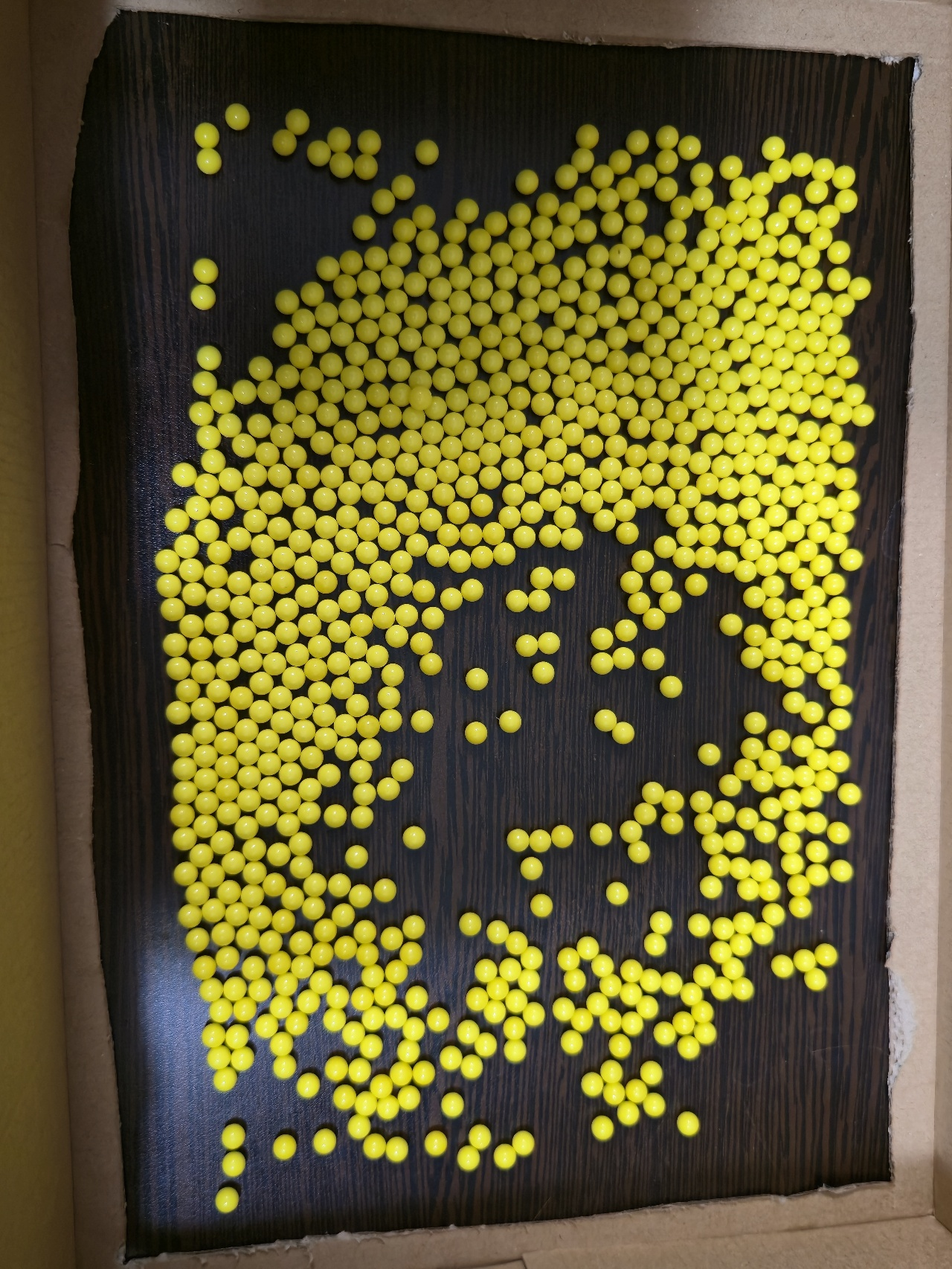yellow_bead: (237, 439, 251, 452), (180, 540, 193, 553), (224, 473, 237, 486), (390, 1010, 402, 1024), (582, 942, 594, 955), (492, 926, 504, 939), (843, 788, 856, 800), (161, 555, 173, 568), (200, 524, 213, 536), (170, 514, 182, 527), (248, 468, 261, 480), (207, 455, 219, 468), (223, 419, 236, 431), (447, 1098, 458, 1112), (347, 1027, 358, 1041), (480, 1039, 492, 1051), (693, 919, 705, 931), (611, 887, 623, 899), (705, 881, 717, 893), (408, 832, 420, 844), (834, 713, 846, 725), (296, 701, 308, 713), (321, 521, 333, 533), (200, 479, 212, 491), (518, 1137, 529, 1150), (558, 1003, 569, 1016), (411, 992, 422, 1005), (274, 691, 287, 702), (253, 420, 266, 431), (238, 387, 251, 398), (204, 155, 215, 168), (184, 566, 198, 576), (587, 1078, 598, 1090), (231, 1030, 242, 1042), (315, 978, 327, 989), (650, 939, 661, 951), (718, 922, 729, 934), (656, 916, 667, 928), (760, 826, 771, 838), (355, 765, 367, 776), (401, 609, 413, 620), (846, 554, 858, 565), (808, 486, 820, 497), (354, 466, 366, 477), (753, 390, 764, 402), (855, 283, 866, 295), (199, 265, 210, 277), (318, 492, 331, 502), (240, 492, 253, 502), (162, 579, 176, 588), (320, 1135, 331, 1146), (683, 1119, 694, 1130), (466, 1062, 477, 1073), (205, 984, 216, 995), (837, 865, 848, 876), (526, 863, 537, 874), (240, 821, 251, 832), (750, 717, 761, 728), (600, 715, 611, 726), (472, 673, 483, 684), (832, 538, 843, 549), (744, 502, 755, 513), (745, 480, 756, 491), (338, 449, 349, 460), (834, 274, 845, 285), (229, 1157, 239, 1169), (353, 1124, 365, 1134), (354, 1066, 366, 1076), (409, 1023, 419, 1035), (329, 1017, 341, 1027), (367, 1014, 379, 1024), (528, 952, 538, 964), (811, 846, 823, 856), (625, 826, 637, 836), (396, 764, 408, 774), (416, 715, 428, 725), (350, 642, 362, 652), (300, 561, 312, 571), (294, 535, 306, 545), (341, 534, 353, 544), (249, 515, 261, 525), (344, 486, 356, 496), (367, 486, 379, 496), (506, 463, 518, 473), (718, 460, 728, 472), (752, 438, 762, 450), (842, 196, 852, 208), (530, 1008, 539, 1021), (506, 963, 515, 976), (276, 716, 289, 725), (244, 655, 257, 664), (322, 605, 335, 614), (298, 511, 311, 520), (202, 431, 215, 440), (660, 1029, 670, 1040), (275, 1004, 286, 1014), (512, 995, 522, 1006), (524, 977, 535, 987), (247, 962, 257, 973), (779, 960, 789, 971), (596, 829, 607, 839), (696, 796, 707, 806), (648, 787, 659, 797), (242, 748, 253, 758), (826, 673, 836, 684), (597, 658, 608, 668), (649, 653, 659, 664), (835, 602, 846, 612), (771, 536, 781, 547), (754, 523, 765, 533), (701, 507, 711, 518), (527, 477, 538, 487), (586, 473, 597, 483), (420, 473, 431, 483), (780, 470, 790, 481), (274, 469, 285, 479), (821, 468, 831, 479), (800, 466, 810, 477), (378, 463, 389, 473), (740, 457, 750, 468), (485, 448, 496, 458), (446, 442, 457, 452), (277, 429, 288, 439), (428, 426, 438, 437), (742, 418, 752, 429), (859, 410, 869, 421), (204, 352, 214, 363), (221, 1194, 233, 1203), (227, 1134, 239, 1143), (509, 1048, 521, 1057), (276, 1041, 288, 1050), (355, 890, 367, 899), (636, 846, 645, 858), (512, 835, 524, 844), (358, 788, 370, 797), (323, 769, 335, 778), (341, 743, 353, 752), (254, 705, 266, 714), (383, 692, 395, 701), (387, 669, 399, 678), (333, 657, 345, 666), (314, 640, 326, 649), (219, 639, 231, 648), (259, 636, 271, 645), (233, 533, 245, 542), (425, 513, 437, 522), (619, 504, 631, 513), (843, 495, 855, 504), (605, 463, 617, 472), (550, 443, 562, 452), (731, 437, 740, 449), (747, 369, 756, 381), (814, 186, 823, 198), (478, 1131, 486, 1144), (669, 977, 677, 990), (318, 710, 331, 718), (255, 677, 268, 685), (332, 626, 345, 634), (280, 603, 293, 611), (235, 601, 248, 609), (300, 590, 313, 598), (316, 544, 329, 552), (383, 533, 396, 541), (273, 522, 286, 530), (237, 1056, 247, 1066), (302, 997, 312, 1007), (288, 672, 298, 682), (803, 508, 813, 518), (546, 494, 556, 504), (765, 489, 775, 499), (762, 459, 772, 469), (696, 457, 706, 467), (468, 433, 478, 443), (490, 425, 500, 435), (493, 401, 503, 411), (729, 322, 739, 332), (774, 289, 784, 299), (393, 1146, 402, 1157), (212, 1055, 223, 1064), (490, 1009, 501, 1018), (483, 966, 492, 977), (599, 960, 608, 971), (408, 921, 419, 930), (741, 917, 750, 928), (309, 878, 320, 887), (227, 856, 238, 865), (731, 836, 740, 847), (216, 836, 227, 845), (814, 818, 823, 829), (262, 734, 273, 743), (822, 731, 831, 742), (618, 727, 629, 736), (505, 716, 516, 725), (832, 651, 841, 662), (372, 650, 383, 659), (544, 637, 555, 646), (597, 633, 608, 642), (567, 533, 578, 542), (791, 525, 800, 536), (724, 509, 733, 520), (825, 502, 834, 513), (789, 491, 798, 502), (686, 491, 695, 502), (509, 489, 520, 498), (289, 489, 300, 498), (391, 483, 402, 492), (725, 483, 734, 494), (327, 470, 338, 479), (530, 454, 541, 463), (425, 450, 436, 459), (506, 440, 517, 449), (408, 435, 417, 446), (805, 426, 814, 437), (562, 403, 573, 412), (735, 397, 744, 408), (776, 394, 785, 405), (840, 299, 849, 310), (836, 246, 845, 257), (463, 1157, 475, 1165), (257, 984, 265, 996), (229, 983, 237, 995), (334, 879, 346, 887), (329, 810, 341, 818), (303, 808, 315, 816), (240, 724, 252, 732), (172, 707, 184, 715), (352, 699, 364, 707), (268, 658, 280, 666), (391, 630, 403, 638), (210, 617, 222, 625), (167, 603, 179, 611), (375, 566, 387, 574), (432, 550, 444, 558), (361, 547, 373, 555), (257, 539, 269, 547), (264, 496, 276, 504), (411, 495, 423, 503), (178, 469, 190, 477), (401, 458, 413, 466), (262, 448, 274, 456), (787, 267, 795, 279), (257, 611, 270, 618), (187, 588, 200, 595), (255, 564, 268, 571), (277, 552, 290, 559), (341, 511, 354, 518), (279, 1064, 288, 1074), (448, 1054, 457, 1064), (368, 1043, 377, 1053), (214, 1006, 224, 1015), (759, 930, 769, 939), (184, 910, 194, 919), (771, 910, 780, 920), (192, 887, 202, 896), (787, 838, 797, 847), (536, 835, 546, 844), (791, 697, 800, 707), (619, 652, 629, 661), (818, 636, 827, 646), (800, 625, 809, 635), (837, 624, 846, 634), (770, 581, 779, 591), (657, 576, 667, 585), (742, 565, 751, 575), (500, 547, 510, 556), (607, 486, 617, 495), (627, 472, 637, 481), (816, 447, 825, 457), (793, 446, 803, 455), (361, 441, 370, 451), (613, 440, 622, 450), (385, 440, 394, 450), (317, 437, 327, 446), (569, 428, 579, 437), (451, 418, 460, 428), (700, 413, 709, 423), (649, 403, 658, 413), (539, 398, 548, 408), (691, 392, 700, 402), (718, 356, 727, 366), (407, 334, 416, 344), (771, 332, 780, 342), (750, 327, 759, 337), (828, 319, 837, 329), (477, 308, 486, 318), (741, 303, 750, 313), (694, 254, 704, 263), (805, 251, 814, 261), (704, 234, 714, 243), (698, 169, 707, 179), (500, 1151, 508, 1162), (630, 1018, 638, 1029), (266, 937, 277, 945), (539, 899, 547, 910), (351, 851, 362, 859), (295, 838, 306, 846), (261, 809, 272, 817), (722, 806, 730, 817), (768, 803, 776, 814), (304, 783, 315, 791), (243, 772, 254, 780), (263, 759, 274, 767), (306, 751, 317, 759), (321, 733, 332, 741), (298, 726, 309, 734), (339, 719, 350, 727), (385, 715, 396, 723), (197, 703, 208, 711), (212, 684, 223, 692), (538, 667, 549, 675), (522, 640, 533, 648), (726, 619, 737, 627), (428, 612, 439, 620), (378, 611, 389, 619), (512, 595, 523, 603), (446, 593, 457, 601), (353, 574, 364, 582), (820, 560, 828, 571), (786, 557, 794, 568), (337, 557, 348, 565), (455, 555, 466, 563), (519, 531, 530, 539), (379, 507, 390, 515), (216, 501, 227, 509), (462, 481, 473, 489), (289, 450, 300, 458), (710, 438, 718, 449), (550, 420, 558, 431), (852, 389, 860, 400), (768, 372, 776, 383), (785, 313, 793, 324), (819, 298, 827, 309), (649, 974, 656, 986), (242, 795, 254, 802), (263, 783, 275, 790), (284, 769, 296, 776), (178, 764, 190, 771), (364, 745, 376, 752), (283, 745, 295, 752), (198, 727, 210, 734), (222, 664, 234, 671), (291, 649, 303, 656), (280, 627, 292, 634), (238, 625, 250, 632), (303, 619, 315, 626), (255, 588, 267, 595), (396, 579, 408, 586), (411, 539, 423, 546), (599, 515, 611, 522), (405, 1096, 414, 1105), (628, 991, 637, 1000), (359, 925, 368, 934), (382, 884, 391, 893), (790, 859, 799, 868), (792, 817, 801, 826), (727, 780, 736, 789), (801, 771, 810, 780), (706, 749, 715, 758), (791, 672, 800, 681), (724, 556, 733, 565), (684, 530, 693, 539), (561, 511, 570, 520), (649, 469, 658, 478), (606, 419, 615, 428), (585, 411, 594, 420), (324, 408, 333, 417), (838, 408, 847, 417), (624, 402, 633, 411), (352, 396, 361, 405), (614, 332, 623, 341), (199, 290, 208, 299), (735, 274, 744, 283), (595, 1000, 603, 1010), (208, 905, 218, 913), (815, 870, 823, 880), (181, 867, 191, 875), (195, 849, 205, 857), (273, 848, 283, 856), (710, 839, 718, 849), (745, 813, 753, 823), (284, 795, 294, 803), (472, 727, 482, 735), (810, 707, 818, 717), (337, 682, 347, 690), (669, 681, 677, 691), (750, 652, 758, 662), (790, 648, 798, 658), (417, 637, 427, 645), (780, 623, 788, 633), (186, 620, 196, 628), (795, 604, 803, 614), (535, 595, 545, 603), (344, 595, 354, 603), (468, 584, 478, 592), (681, 552, 689, 562), (661, 542, 671, 550), (842, 517, 850, 527), (588, 496, 598, 504), (571, 458, 579, 468), (797, 397, 805, 407), (200, 377, 210, 385), (727, 376, 735, 386), (789, 376, 797, 386), (256, 365, 266, 373), (438, 307, 446, 317), (625, 302, 633, 312), (738, 183, 746, 193), (191, 501, 204, 507), (703, 970, 710, 981), (738, 863, 745, 874), (296, 863, 307, 870), (249, 844, 260, 851), (178, 834, 189, 841), (789, 794, 796, 805), (314, 687, 325, 694), (172, 663, 183, 670), (169, 639, 180, 646), (559, 574, 570, 581), (765, 559, 772, 570), (545, 530, 556, 537), (485, 472, 496, 479), (443, 466, 454, 473), (419, 392, 426, 403), (443, 373, 450, 384), (517, 365, 524, 376), (527, 304, 534, 315), (810, 274, 817, 285), (652, 1099, 660, 1108), (651, 1067, 657, 1079), (334, 994, 343, 1002), (367, 974, 376, 982), (804, 954, 810, 966), (289, 892, 298, 900), (223, 886, 232, 894), (758, 866, 767, 874), (356, 812, 368, 818), (222, 809, 234, 815), (642, 809, 651, 817), (837, 758, 845, 767), (178, 739, 187, 747), (199, 666, 208, 674), (752, 591, 760, 600), (812, 591, 820, 600), (628, 576, 637, 584), (675, 510, 684, 518), (661, 492, 670, 500), (676, 472, 684, 481), (676, 449, 685, 457), (655, 446, 663, 455), (828, 429, 837, 437), (301, 420, 310, 428), (722, 416, 730, 425), (512, 415, 521, 423), (714, 396, 722, 405), (583, 388, 591, 397), (397, 364, 405, 373), (423, 353, 431, 362), (573, 341, 581, 350), (814, 338, 823, 346), (721, 292, 729, 301), (711, 272, 720, 280), (765, 241, 773, 250), (750, 225, 758, 234), (755, 202, 763, 211), (799, 158, 808, 166), (646, 1002, 653, 1012), (466, 918, 476, 925), (746, 885, 753, 895), (817, 755, 824, 765), (801, 741, 808, 751), (237, 692, 247, 699), (622, 625, 632, 632), (419, 585, 429, 592), (214, 546, 224, 553), (579, 364, 586, 374), (802, 357, 809, 367), (596, 345, 603, 355), (433, 330, 440, 340), (457, 321, 464, 331), (707, 311, 714, 321), (439, 284, 446, 294), (805, 215, 812, 225), (701, 193, 708, 203), (248, 869, 259, 875), (199, 751, 210, 757), (820, 612, 826, 623), (439, 489, 450, 495), (598, 1127, 606, 1135), (570, 1039, 578, 1047), (194, 934, 202, 942), (750, 743, 758, 751), (832, 579, 840, 587), (306, 470, 314, 478), (684, 427, 692, 435), (538, 375, 546, 383), (826, 213, 834, 221), (704, 1030, 711, 1039), (219, 928, 226, 937), (340, 909, 347, 918), (247, 891, 256, 898), (201, 821, 210, 828), (283, 820, 292, 827), (810, 793, 817, 802), (181, 787, 190, 794), (761, 777, 768, 786), (201, 774, 210, 781), (782, 771, 789, 780), (771, 643, 778, 652), (357, 619, 366, 626), (538, 572, 547, 579), (640, 556, 649, 563), (445, 529, 454, 536), (364, 523, 373, 530), (506, 512, 515, 519), (639, 491, 648, 498), (571, 486, 578, 495), (550, 467, 559, 474), (775, 440, 782, 449), (660, 424, 669, 431), (636, 422, 645, 429), (474, 411, 481, 420), (602, 395, 611, 402), (499, 379, 506, 388), (447, 350, 454, 359), (355, 349, 362, 358), (794, 336, 801, 345), (564, 312, 571, 321), (568, 286, 575, 295), (529, 282, 536, 291), (505, 273, 512, 282), (263, 1023, 269, 1033), (742, 985, 748, 995), (733, 964, 739, 974), (403, 518, 413, 524), (559, 357, 565, 367), (844, 171, 850, 181), (302, 1083, 310, 1090), (740, 942, 747, 950), (299, 937, 306, 945), (209, 870, 216, 878), (769, 755, 776, 763), (222, 737, 230, 744), (221, 711, 228, 719), (196, 642, 204, 649), (668, 597, 676, 604), (806, 544, 813, 552), (845, 473, 852, 481), (562, 381, 570, 388), (698, 353, 705, 361), (317, 336, 324, 344), (459, 298, 466, 306), (548, 297, 555, 305), (767, 266, 774, 274), (362, 1099, 367, 1110), (843, 690, 848, 701), (611, 1068, 617, 1077), (689, 991, 698, 997), (283, 981, 289, 990), (631, 966, 637, 975), (721, 948, 727, 957), (255, 913, 264, 919), (202, 798, 211, 804), (826, 777, 832, 786), (811, 657, 817, 666), (279, 576, 288, 582), (210, 570, 219, 576), (735, 530, 741, 539), (478, 499, 487, 505), (602, 373, 608, 382), (823, 360, 832, 366), (654, 341, 660, 350), (553, 332, 559, 341), (607, 312, 613, 321), (651, 308, 657, 317), (350, 306, 356, 315), (619, 280, 625, 289), (429, 262, 435, 271), (762, 178, 768, 187), (731, 161, 737, 170), (233, 112, 239, 121), (352, 372, 357, 382), (245, 932, 252, 939), (704, 820, 711, 827), (778, 735, 785, 742), (183, 684, 190, 691), (638, 597, 645, 604), (491, 527, 498, 534), (282, 407, 289, 414), (509, 321, 516, 328), (414, 282, 421, 289), (721, 986, 727, 994), (816, 975, 822, 983), (299, 963, 305, 971), (233, 910, 241, 916), (672, 795, 678, 803), (802, 574, 808, 582), (479, 551, 487, 557), (706, 530, 714, 536), (625, 527, 633, 533), (455, 507, 463, 513), (707, 479, 713, 487), (344, 425, 350, 433), (411, 417, 419, 423), (367, 417, 373, 425), (436, 405, 442, 413), (457, 396, 463, 404), (669, 384, 675, 392), (639, 359, 645, 367), (492, 356, 498, 364), (341, 330, 347, 338), (686, 306, 692, 314), (701, 291, 707, 299), (481, 284, 487, 292), (368, 277, 374, 285), (460, 274, 466, 282), (385, 1105, 390, 1114), (609, 983, 614, 992), (517, 937, 522, 946), (390, 932, 395, 941), (840, 829, 845, 838), (624, 379, 629, 388), (662, 362, 667, 371), (587, 321, 592, 330), (595, 274, 600, 283), (598, 251, 603, 260), (820, 164, 829, 169), (689, 1046, 695, 1053), (562, 831, 568, 838), (223, 762, 230, 768), (653, 614, 660, 620), (238, 580, 245, 586), (322, 576, 329, 582), (842, 449, 849, 455), (329, 362, 336, 368), (387, 344, 393, 351), (390, 320, 396, 327), (325, 312, 332, 318), (501, 299, 508, 305), (396, 298, 402, 305), (685, 275, 691, 282), (392, 273, 398, 280), (612, 221, 618, 228), (310, 905, 318, 910), (312, 664, 320, 669), (774, 603, 779, 611), (774, 510, 782, 515), (480, 388, 485, 396), (333, 386, 338, 394), (646, 382, 651, 390), (669, 324, 674, 332), (663, 269, 668, 277), (575, 264, 580, 272), (481, 260, 486, 268), (675, 225, 680, 233), (225, 954, 231, 960), (672, 820, 678, 826), (818, 401, 827, 405), (286, 373, 292, 379), (303, 318, 309, 324), (373, 303, 379, 309), (451, 252, 457, 258), (399, 251, 405, 257), (637, 138, 643, 144), (827, 951, 832, 958), (387, 787, 394, 792), (706, 552, 711, 559), (818, 527, 825, 532), (814, 380, 819, 387), (284, 332, 289, 339), (693, 329, 698, 336), (822, 235, 827, 242), (771, 218, 778, 223), (785, 419, 793, 423), (686, 368, 690, 376), (591, 298, 595, 306), (677, 249, 681, 257), (691, 143, 695, 151), (771, 142, 779, 146), (628, 1112, 634, 1117), (770, 886, 775, 892), (271, 878, 276, 884), (774, 666, 779, 672), (751, 549, 757, 554), (470, 530, 475, 536), (420, 376, 426, 381), (467, 369, 472, 375), (679, 349, 684, 355), (531, 330, 537, 335), (620, 254, 625, 260), (502, 252, 507, 258), (521, 235, 526, 241), (634, 234, 639, 240), (586, 228, 591, 234), (542, 225, 547, 231), (609, 197, 614, 203), (567, 173, 572, 179), (762, 413, 769, 417), (846, 364, 853, 368), (545, 247, 549, 254), (768, 148, 772, 155), (669, 133, 673, 140), (226, 1076, 231, 1081), (802, 907, 807, 912), (361, 669, 366, 674), (533, 510, 538, 515), (538, 354, 543, 359), (791, 240, 796, 245), (428, 239, 433, 244), (637, 208, 642, 213), (583, 158, 588, 163), (576, 977, 580, 983), (569, 958, 573, 964), (757, 630, 761, 636), (697, 579, 701, 585), (369, 327, 373, 333), (376, 257, 382, 261), (564, 233, 568, 239), (668, 186, 672, 192), (648, 173, 652, 179), (410, 1048, 414, 1053), (368, 722, 372, 727), (219, 597, 224, 601), (835, 386, 840, 390), (376, 367, 380, 372), (312, 292, 317, 296), (329, 266, 333, 271), (727, 255, 731, 260), (570, 212, 575, 216), (528, 179, 532, 184), (533, 431, 536, 437), (196, 408, 202, 411), (605, 173, 608, 179), (227, 786, 231, 790), (212, 597, 216, 601), (637, 452, 641, 456), (492, 334, 496, 338), (587, 196, 591, 200), (721, 863, 724, 868), (747, 766, 750, 771), (391, 413, 394, 418), (218, 395, 223, 398), (271, 389, 274, 394), (512, 345, 515, 350), (416, 315, 421, 318), (551, 274, 556, 277), (181, 812, 185, 815), (520, 396, 524, 399), (619, 359, 623, 362), (472, 346, 475, 350), (640, 328, 643, 332), (288, 301, 292, 304), (672, 293, 675, 297), (642, 265, 645, 269), (656, 245, 660, 248), (521, 213, 524, 217), (468, 210, 472, 213), (792, 205, 796, 208), (402, 1049, 405, 1052), (470, 460, 473, 463), (379, 393, 382, 396), (302, 354, 305, 357), (308, 400, 310, 404), (313, 377, 315, 381), (385, 200, 387, 204), (526, 261, 528, 264), (366, 226, 368, 229), (405, 187, 407, 190), (669, 160, 672, 162), (429, 152, 431, 155), (615, 1094, 617, 1096), (638, 1093, 640, 1095), (362, 998, 364, 1000), (800, 885, 802, 887), (379, 595, 381, 597), (371, 593, 373, 595), (403, 562, 405, 564), (648, 289, 650, 291), (396, 559, 397, 562), (782, 353, 785, 354), (473, 1031, 474, 1033), (612, 1021, 614, 1022), (397, 972, 398, 974), (679, 412, 681, 413), (797, 293, 799, 294), (321, 153, 323, 154), (424, 1074, 425, 1075), (405, 1048, 406, 1049), (514, 1032, 515, 1033), (245, 1011, 246, 1012), (477, 999, 478, 1000), (325, 929, 326, 930), (354, 671, 355, 672), (406, 559, 407, 560), (594, 446, 595, 447), (712, 376, 713, 377), (742, 345, 743, 346), (207, 300, 208, 301), (353, 262, 354, 263), (426, 216, 427, 217), (551, 203, 552, 204), (784, 165, 785, 166), (768, 146, 769, 147), (283, 1148, 283, 1150), (464, 1029, 465, 1029), (705, 1012, 706, 1012), (234, 580, 234, 581), (750, 550, 750, 551), (770, 515, 771, 515), (770, 414, 771, 414), (216, 400, 216, 401), (800, 292, 800, 293), (347, 286, 348, 286)
